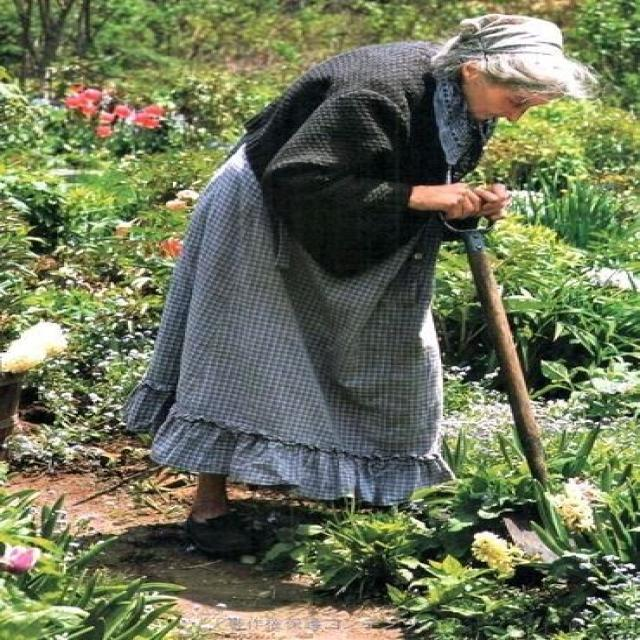idoso em pe: (159, 22, 555, 530)
